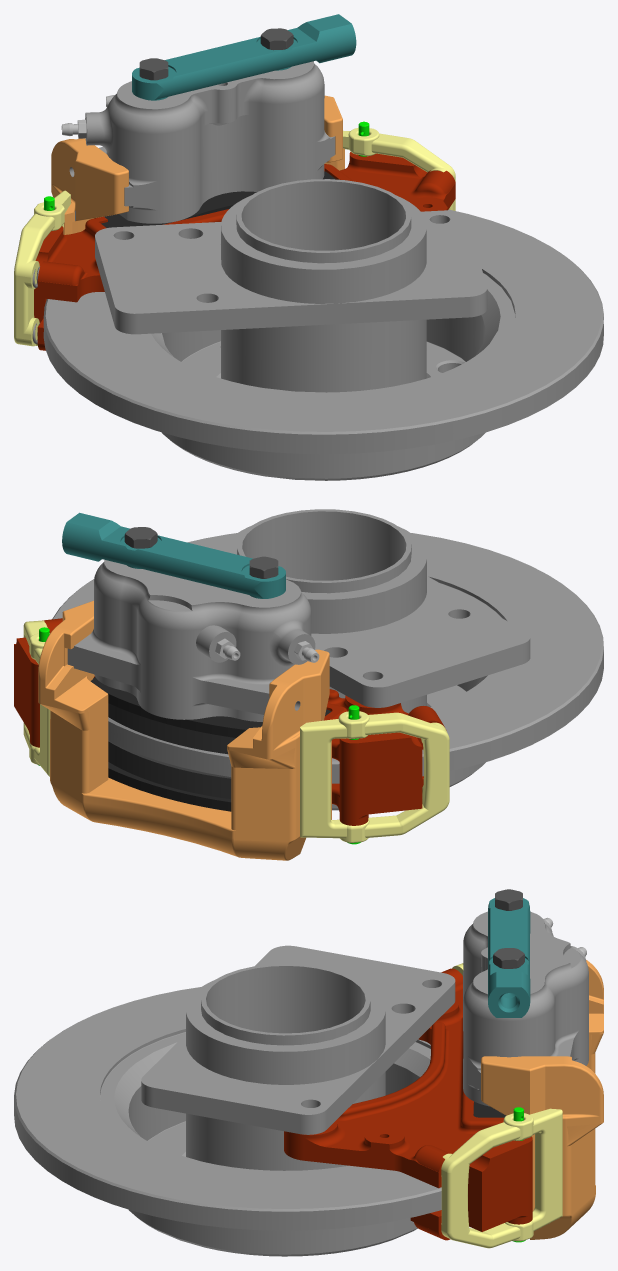
Rendered from Brake.fbx.
The picture shows the model from 3 angles, top to bottom: view 1: azimuth 30°, elevation 25°; view 2: azimuth 150°, elevation 25°; view 3: azimuth 270°, elevation 25°; orthographic projection. The views are drawn at different scales.
Visible parts, largest first — view 1: Body1 (×10); view 2: Body1 (×12); view 3: Body1 (×9).
Part boxes in pixels (x1,y1,x2,y2): Body1 (×10): (14, 14, 603, 480); Body1 (×12): (14, 509, 603, 860); Body1 (×9): (14, 889, 603, 1256).
Size of the model in its own units: 272 by 148 by 295.
